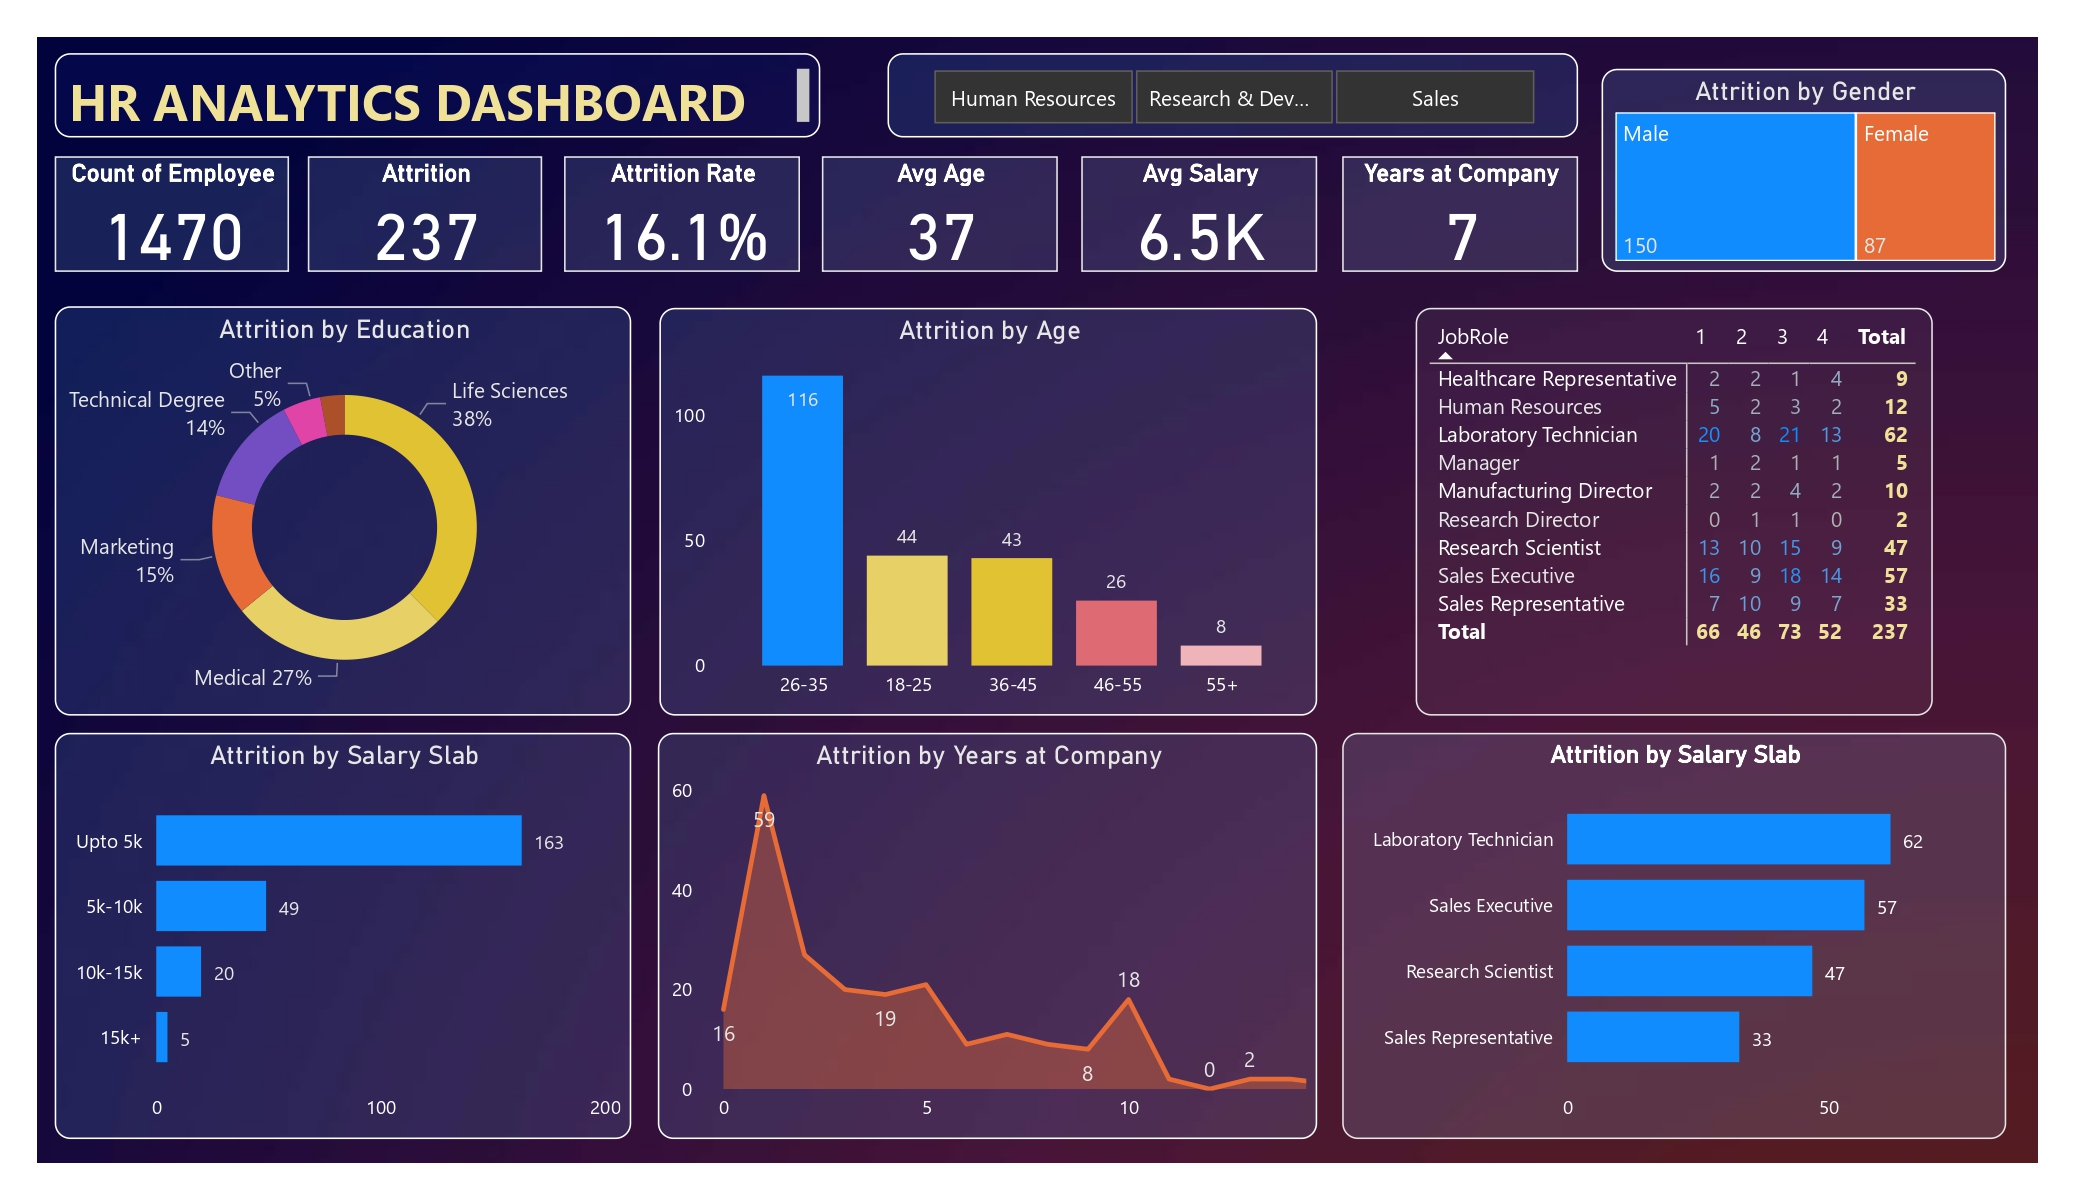

What the dashboard file says about the page in this screenshot:
{"tool":"powerbi","page":{"name":"Page 1","canvas":[1280,720],"ordinal":0},"visuals":[{"type":"card","title":"Count of Employee","fields":{"Values":["CountNonNull(HR_Analytics.EmpID)"]},"box":[11,75.7,150.1,74.4],"z":0},{"type":"card","title":"Attrition","fields":{"Values":["Sum(HR_Analytics.Attrition Count)"]},"box":[173.3,75.7,150.1,74.4],"z":1000},{"type":"card","title":"Attrition Rate","fields":{"Values":["HR_Analytics.AtttritionRate"]},"box":[336.8,75.7,151.3,74.4],"z":2000},{"type":"card","title":"Avg Age","fields":{"Values":["Avg(HR_Analytics.Age)"]},"box":[501.6,75.7,151.3,74.4],"z":3000},{"type":"card","title":"Avg Salary","fields":{"Values":["Avg(HR_Analytics.MonthlyIncome)"]},"box":[667.6,75.7,151.3,74.4],"z":4000},{"type":"card","title":"Years at Company","fields":{"Values":["Avg(HR_Analytics.YearsAtCompany)"]},"box":[834.8,75.7,151.3,74.4],"z":5000},{"type":"donutChart","title":"Attrition by Education","fields":{"Category":["HR_Analytics.EducationField"],"Y":["Sum(HR_Analytics.Attrition Count)"]},"box":[11,172.2,368.9,261.4],"z":6000},{"type":"columnChart","title":"Attrition by Age","fields":{"Category":["HR_Analytics.AgeGroup"],"Y":["Sum(HR_Analytics.Attrition Count)"]},"box":[398.2,172.7,421.1,261.2],"z":7000},{"type":"pivotTable","fields":{"Rows":["HR_Analytics.JobRole"],"Columns":["HR_Analytics.JobSatisfaction"],"Values":["Sum(HR_Analytics.Attrition Count)"]},"box":[882.1,172.7,331.1,261.2],"z":8000},{"type":"barChart","title":"Attrition by Salary Slab","fields":{"Category":["HR_Analytics.SalarySlab"],"Y":["Sum(HR_Analytics.Attrition Count)"]},"box":[11.4,445.3,368.2,259.8],"z":9000},{"type":"areaChart","title":"Attrition by Years at Company","fields":{"Category":["HR_Analytics.YearsAtCompany"],"Y":["Sum(HR_Analytics.Attrition Count)"]},"box":[396.8,445.3,422.5,259.8],"z":10000},{"type":"barChart","title":"Attrition by Salary Slab","fields":{"Category":["HR_Analytics.JobRole"],"Y":["Sum(HR_Analytics.Attrition Count)"]},"box":[835,445.3,425.3,259.8],"z":11000},{"type":"treemap","title":"Attrition by Gender","fields":{"Group":["HR_Analytics.Gender"],"Values":["Sum(HR_Analytics.Attrition Count)"]},"box":[1000.5,20,259.8,129.9],"z":12000},{"type":"slicer","fields":{"Values":["HR_Analytics.Department"]},"box":[543.8,10,442.5,54.2],"z":13000},{"type":"textbox","box":[11.4,10,489.6,54.2],"z":13001}]}

Visuals, with their boxes in screenshot pixels (x1, y1, x2, y2):
"Count of Employee" card: {"x1": 34, "y1": 143, "x2": 274, "y2": 262}
"Attrition" card: {"x1": 293, "y1": 143, "x2": 533, "y2": 262}
"Attrition Rate" card: {"x1": 555, "y1": 143, "x2": 797, "y2": 262}
"Avg Age" card: {"x1": 818, "y1": 143, "x2": 1060, "y2": 262}
"Avg Salary" card: {"x1": 1083, "y1": 143, "x2": 1325, "y2": 262}
"Years at Company" card: {"x1": 1351, "y1": 143, "x2": 1593, "y2": 262}
"Attrition by Education" donutChart: {"x1": 34, "y1": 297, "x2": 624, "y2": 715}
"Attrition by Age" columnChart: {"x1": 653, "y1": 298, "x2": 1326, "y2": 715}
pivotTable - HR_Analytics.JobRole x HR_Analytics.JobSatisfaction: {"x1": 1426, "y1": 298, "x2": 1956, "y2": 715}
"Attrition by Salary Slab" barChart: {"x1": 34, "y1": 734, "x2": 623, "y2": 1149}
"Attrition by Years at Company" areaChart: {"x1": 651, "y1": 734, "x2": 1326, "y2": 1149}
"Attrition by Salary Slab" barChart: {"x1": 1351, "y1": 734, "x2": 2031, "y2": 1149}
"Attrition by Gender" treemap: {"x1": 1616, "y1": 54, "x2": 2031, "y2": 261}
slicer - HR_Analytics.Department: {"x1": 886, "y1": 38, "x2": 1593, "y2": 124}
textbox: {"x1": 34, "y1": 38, "x2": 817, "y2": 124}
